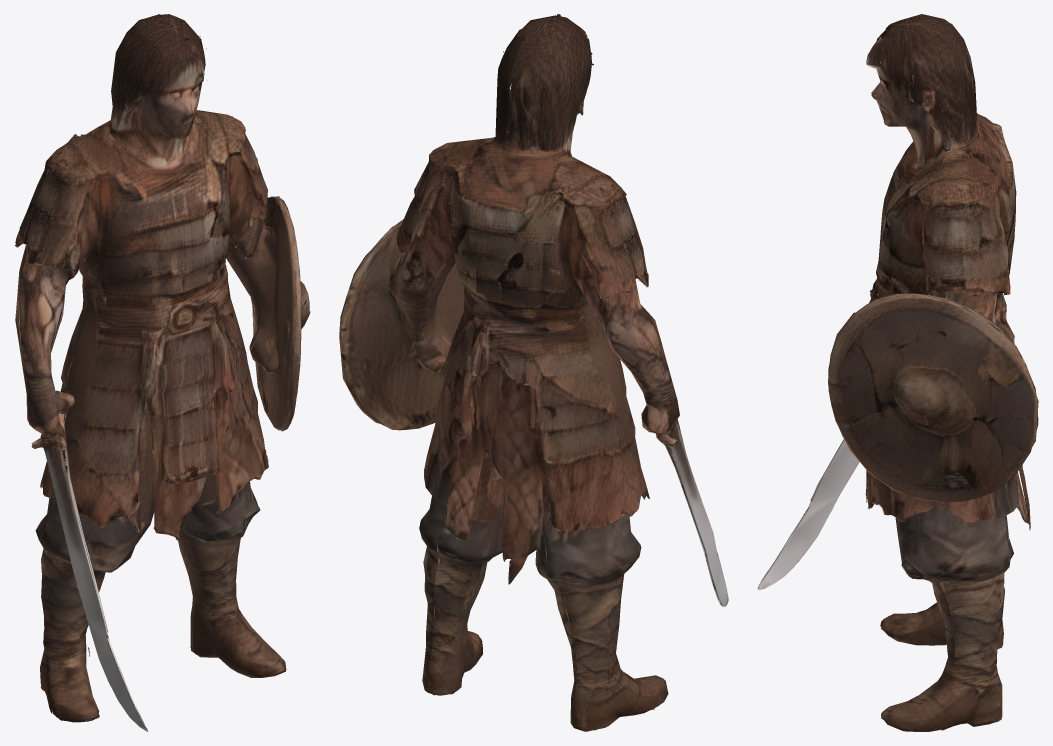
File: Deserter.fbx
The picture shows the model from 3 angles, left to right: view 1: azimuth 30°, elevation 25°; view 2: azimuth 150°, elevation 25°; view 3: azimuth 270°, elevation 25°; orthographic projection.
Visible parts, largest first — view 1: Deserter_Body; view 2: Deserter_Body; view 3: Deserter_Body.
Boxes of the visible parts, <box> form: Deserter_Body: <box>14,14,310,731</box>; Deserter_Body: <box>339,14,728,731</box>; Deserter_Body: <box>757,14,1038,731</box>.
Bounding box in the file's own units: 0.8465 × 1.9 × 0.7302.
1 material, 1 textured.
